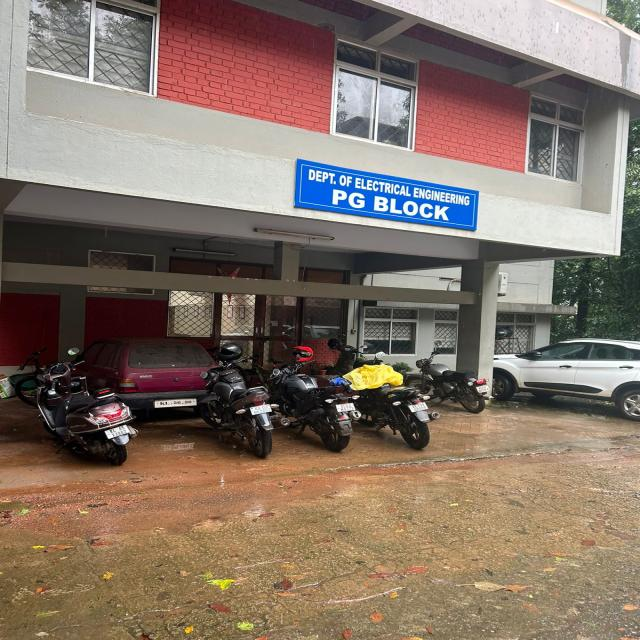car ahead at: (84, 331, 222, 408)
motorcycle ahead at: (26, 342, 138, 462)
